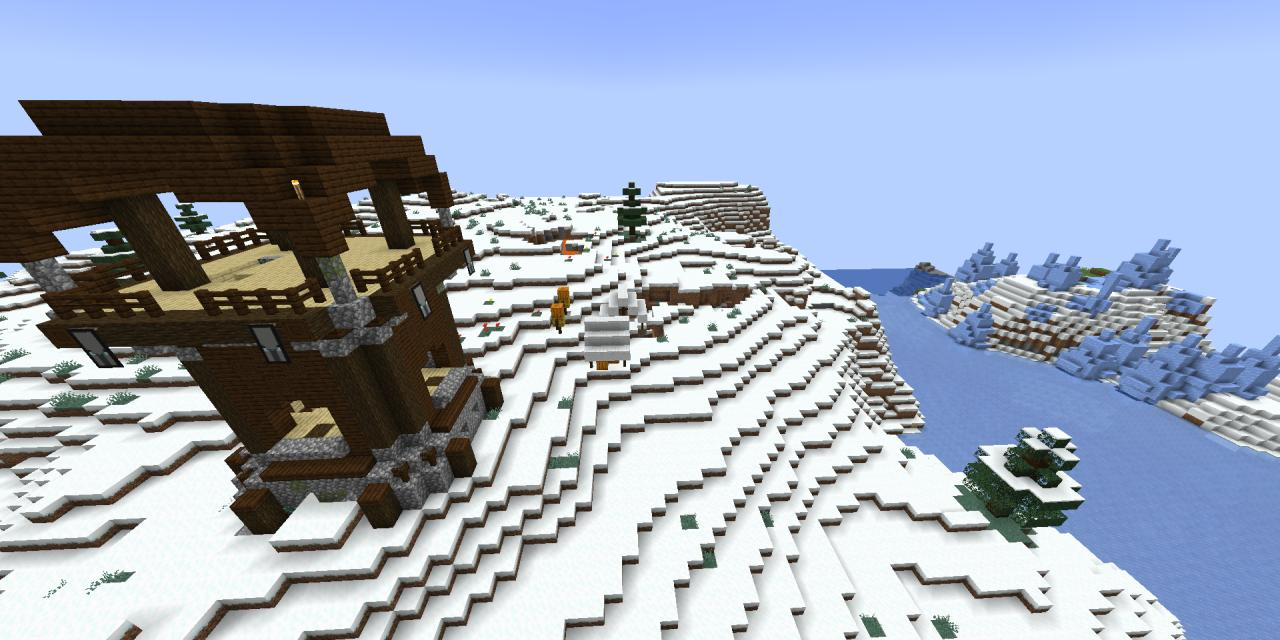pillager outpost: (0, 80, 514, 546)
